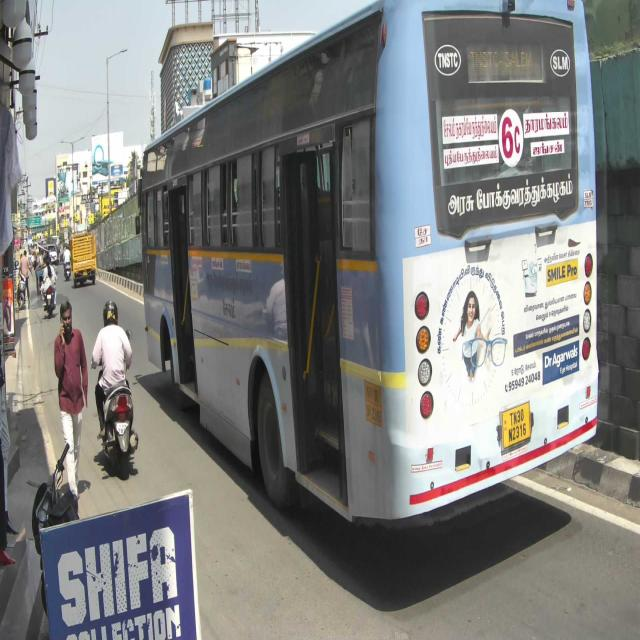single_rider: (90, 296, 140, 478)
